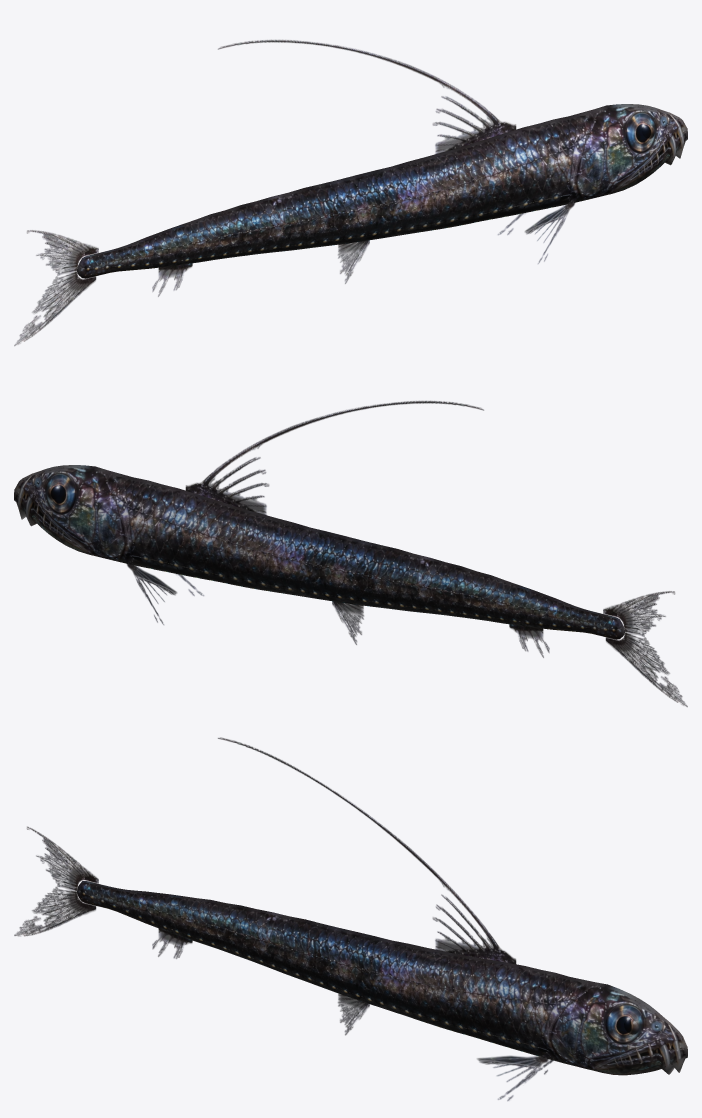
Rendered from houraieso.glb.
3 views of the same model, one above another, from view 1: azimuth 30°, elevation 25°; view 2: azimuth 150°, elevation 25°; view 3: azimuth 330°, elevation 25° (orthographic).
Parts seen in each view (by area): view 1: houraieso; view 2: houraieso; view 3: houraieso.
Boxes of the visible parts, box(x1,y1,x2,y2) form: houraieso: box(14, 39, 687, 346); houraieso: box(14, 400, 687, 707); houraieso: box(14, 737, 687, 1100).
Bounding box in the file's own units: 0.2504 × 0.0984 × 0.0312.
Materials: 1 (1 with a texture image).
